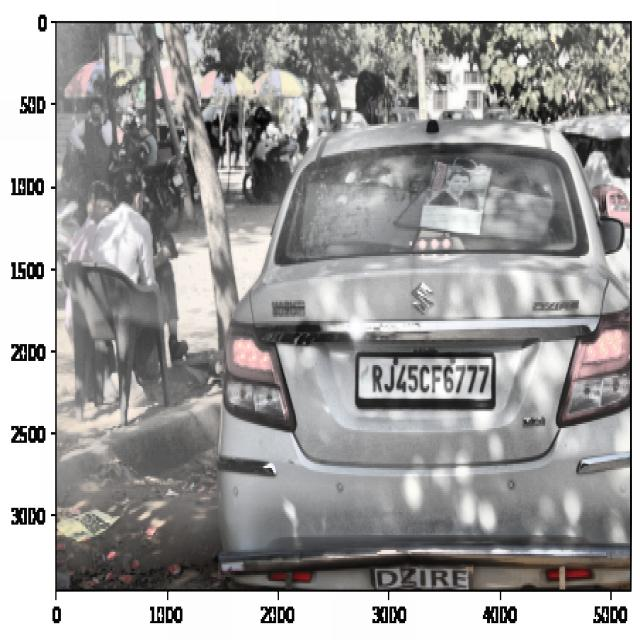license_plate: (361, 356, 494, 405)
